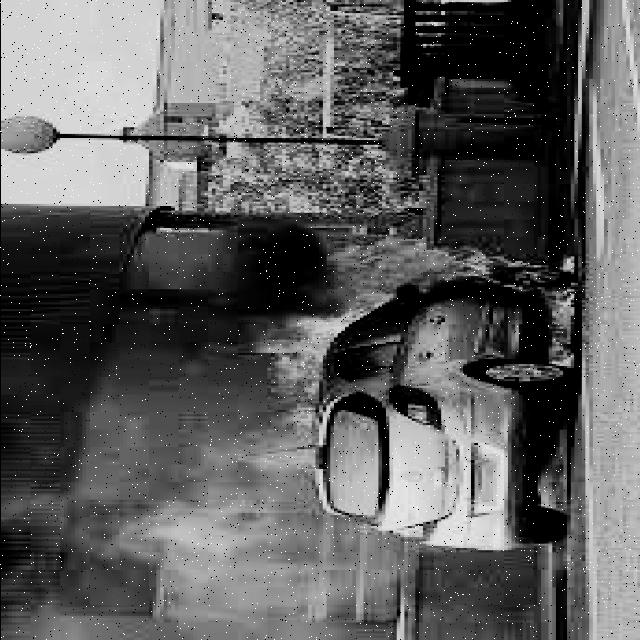api: (271, 243, 471, 431), (512, 253, 601, 378)
